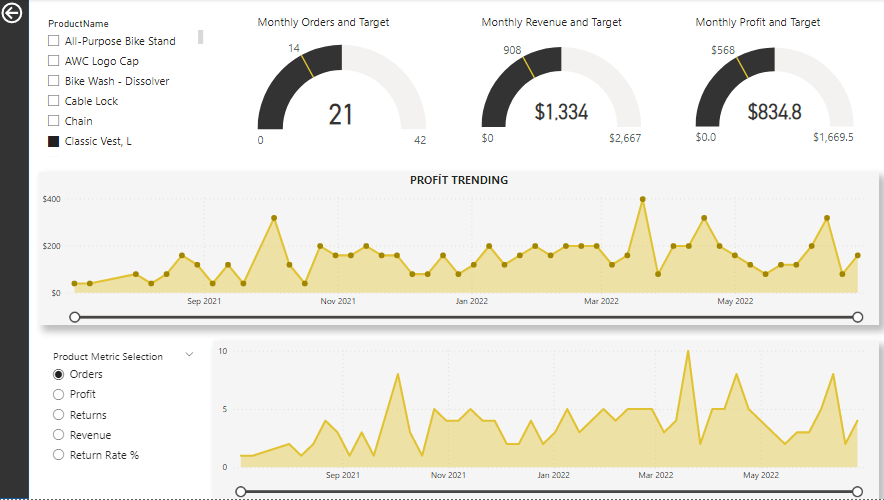

What the dashboard file says about the page in this screenshot:
{"tool":"powerbi","page":{"name":"Product","canvas":[1280,720],"ordinal":1},"visuals":[{"type":"shape","box":[0,0,44.6,720],"z":0},{"type":"slicer","fields":{"Values":["Product_Lookup.ProductName"]},"box":[59,21.6,241.9,210.2],"z":1000},{"type":"gauge","title":"Monthly Orders and Target","fields":{"Y":["Measure Table.Total Orders"],"TargetValue":["Measure Table.Orders target"]},"box":[369.1,21.6,253.4,210.2],"z":2000},{"type":"gauge","title":"Monthly Revenue and Target","fields":{"Y":["Measure Table.Total Revenue"],"TargetValue":["Measure Table.Revenue Target"]},"box":[690.7,21.6,240.5,210.2],"z":3000},{"type":"gauge","title":"Monthly Profit and Target","fields":{"Y":["Measure Table.Total profit"],"TargetValue":["Measure Table.Profit target"]},"box":[999.4,21.6,237.6,210.2],"z":4000},{"type":"areaChart","title":"PROFİT TRENDING","fields":{"Y":["Measure Table.Total profit"],"Category":["Calendar_Lookup.Date hierarchy.Start of Year","Calendar_Lookup.Date hierarchy.Start of Month","Calendar_Lookup.Date hierarchy.Start of Week","Calendar_Lookup.Date hierarchy.Date"]},"box":[59,249.1,1209.6,220.3],"z":5000},{"type":"areaChart","title":"REVENUE TRENDING","fields":{"Y":["Measure Table.Total Orders"],"Category":["Calendar_Lookup.Date hierarchy.Start of Year","Calendar_Lookup.Date hierarchy.Start of Month","Calendar_Lookup.Date hierarchy.Start of Week","Calendar_Lookup.Date hierarchy.Date"]},"box":[309.6,492.5,959,227.5],"z":6000},{"type":"actionButton","box":[0,0,44.6,40.3],"z":7000},{"type":"slicer","fields":{"Values":["Product Metric Selection.Product Metric Selection"]},"box":[66.2,498.2,227.5,216],"z":9000}]}

Visuals, with their boxes on the page's 1280x720 design canvas (x1, y1, x2, y2). These are canvas units, not pixel positions in the 884x500 screenshot, which may show the page scaled, cropped or inside an application window:
shape: detection(0, 0, 45, 720)
slicer - Product_Lookup.ProductName: detection(59, 22, 301, 232)
"Monthly Orders and Target" gauge: detection(369, 22, 622, 232)
"Monthly Revenue and Target" gauge: detection(691, 22, 931, 232)
"Monthly Profit and Target" gauge: detection(999, 22, 1237, 232)
"PROFİT TRENDING" areaChart: detection(59, 249, 1269, 469)
"REVENUE TRENDING" areaChart: detection(310, 492, 1269, 720)
actionButton: detection(0, 0, 45, 40)
slicer - Product Metric Selection.Product Metric Selection: detection(66, 498, 294, 714)
